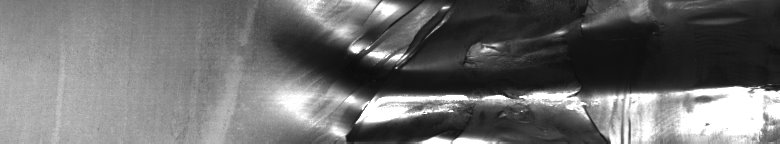ke: (310, 4, 712, 136)
